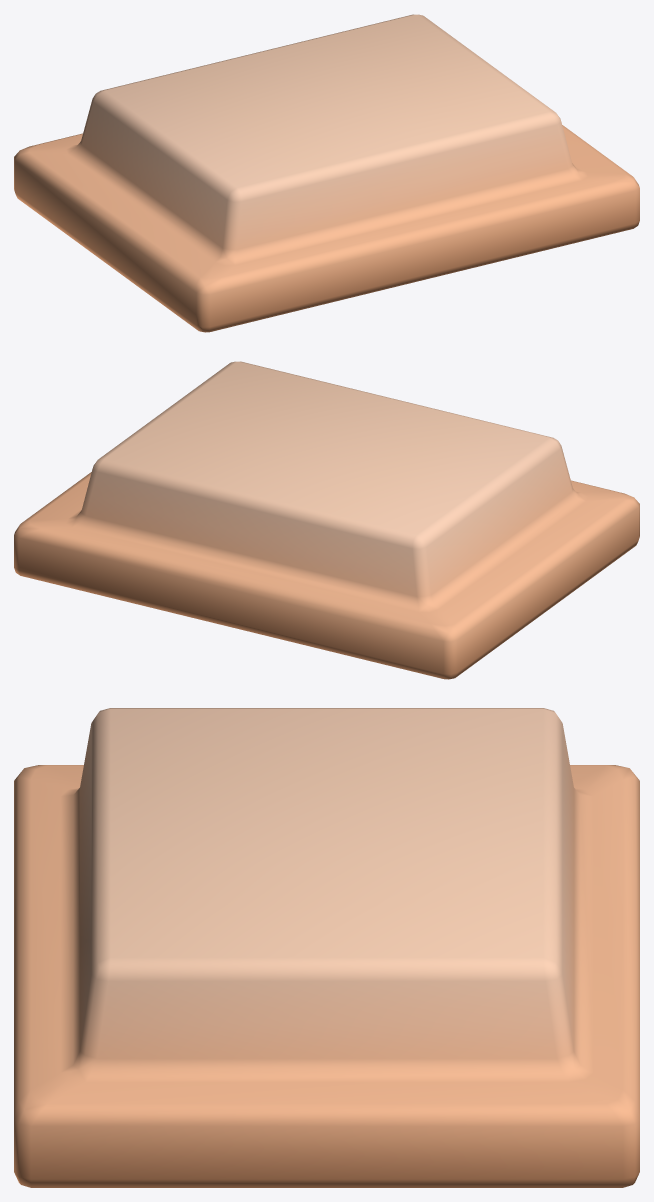
Rendered from candy_choco_12.fbx.
The picture shows the model from 3 angles, top to bottom: view 1: azimuth 30°, elevation 25°; view 2: azimuth 150°, elevation 25°; view 3: azimuth 270°, elevation 25°; orthographic projection. The views are drawn at different scales.
Parts seen in each view (by area): view 1: c_c_12; view 2: c_c_12; view 3: c_c_12.
Boxes of the visible parts, x1,y1,x2,y2 form: c_c_12: (14, 14, 639, 332); c_c_12: (14, 361, 639, 679); c_c_12: (14, 708, 639, 1187).
Size of the model in its own units: 149 by 36.29 by 111.
